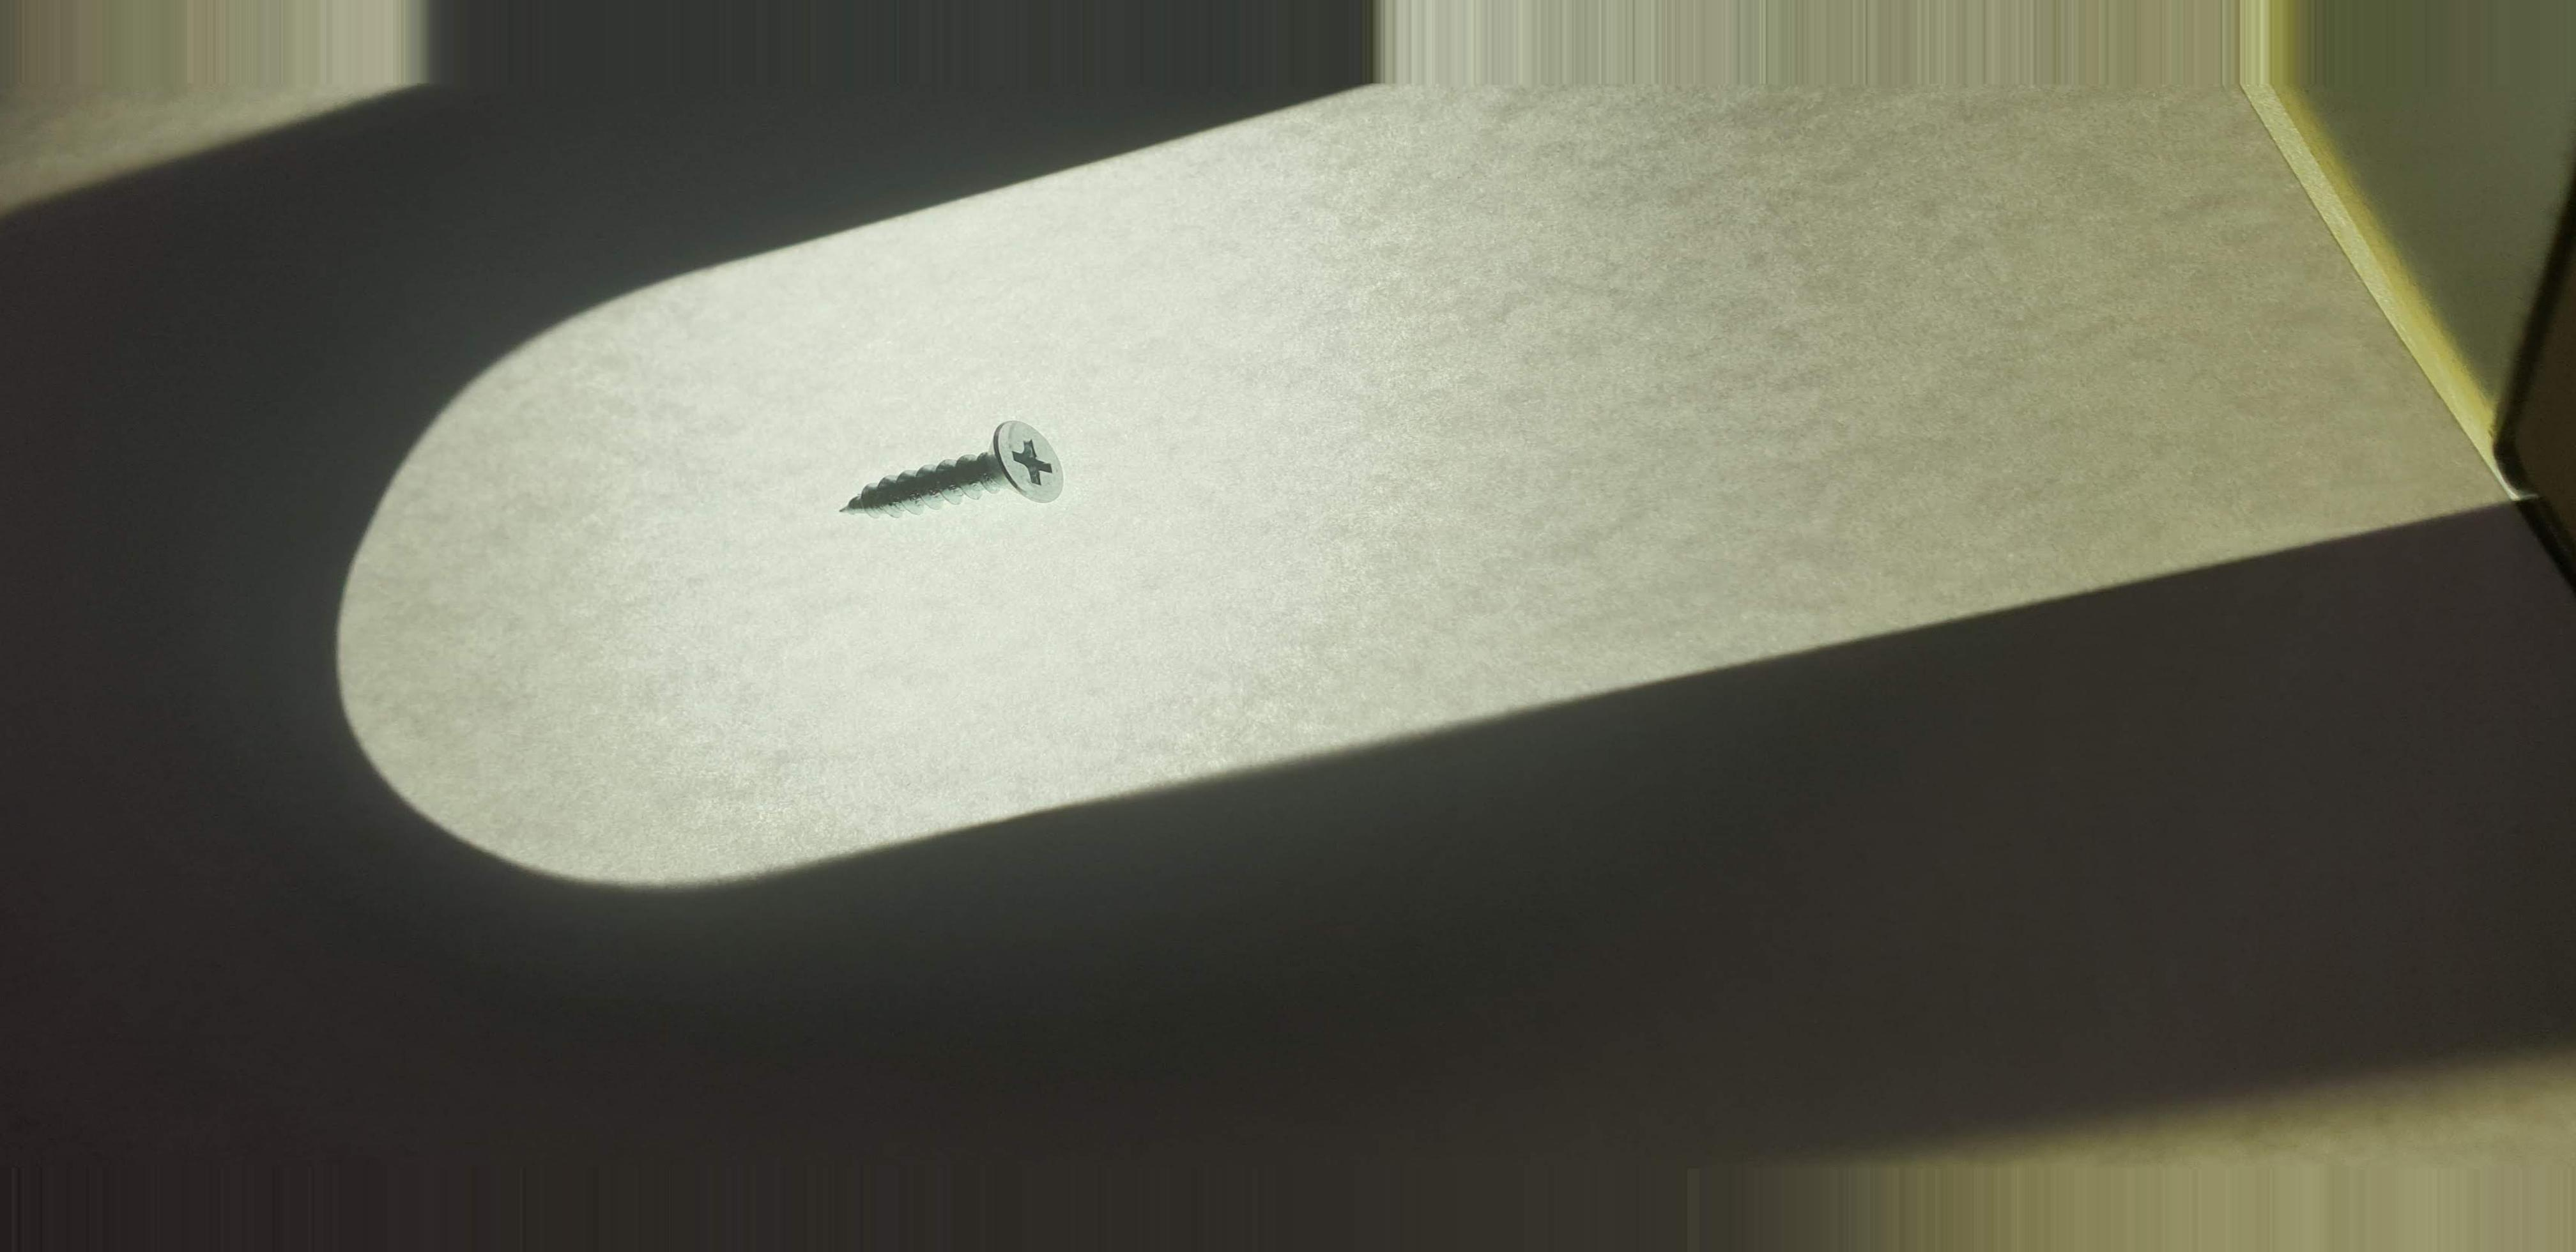S003: (828, 406, 1092, 536)
